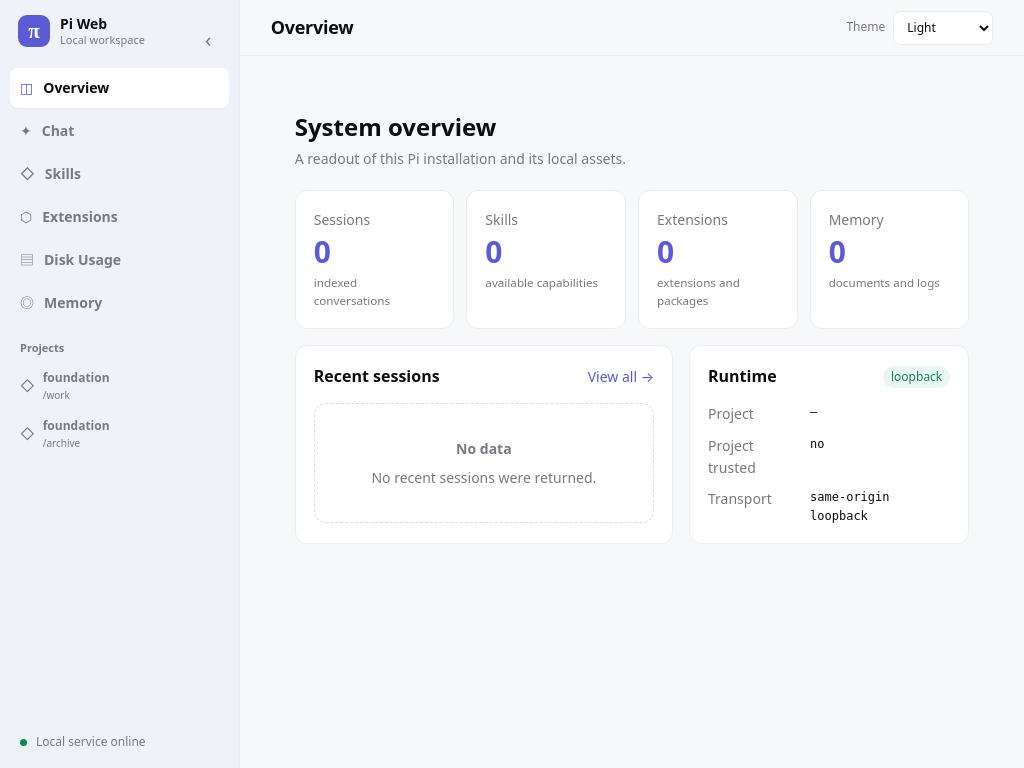
Test: AppShell › toggles and persists the desktop sidebar
The image size is (1024, 768).
What coordinates should you click on to do the following:
click the button named "Collapse sidebar"
I would click on:
 (207, 31)
Its box is x1=193 y1=17 x2=221 y2=45.
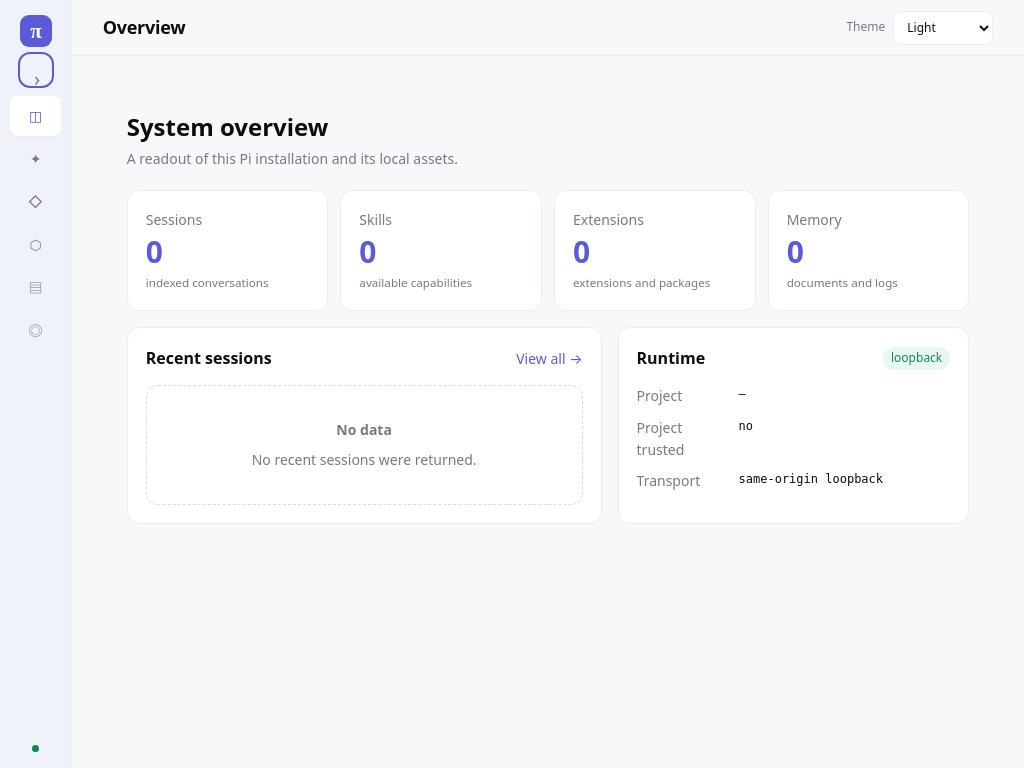
Expected: the button named "Expand sidebar" is shown, x1=22 y1=56 x2=50 y2=84
